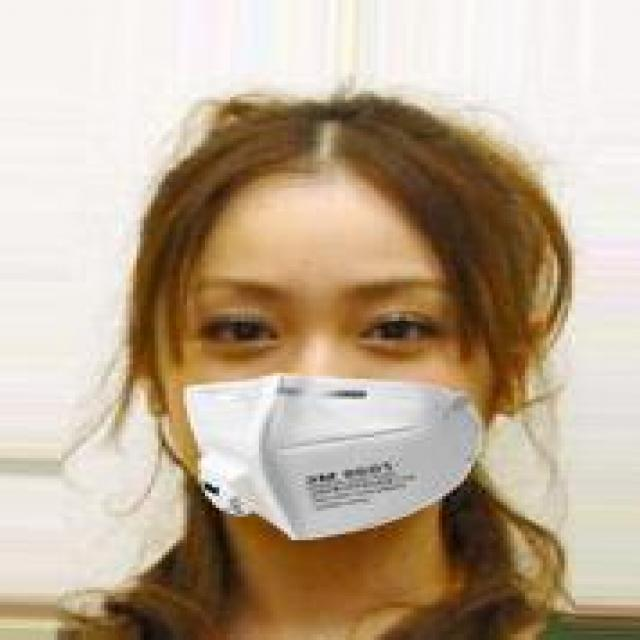mask: (101, 79, 561, 587)
